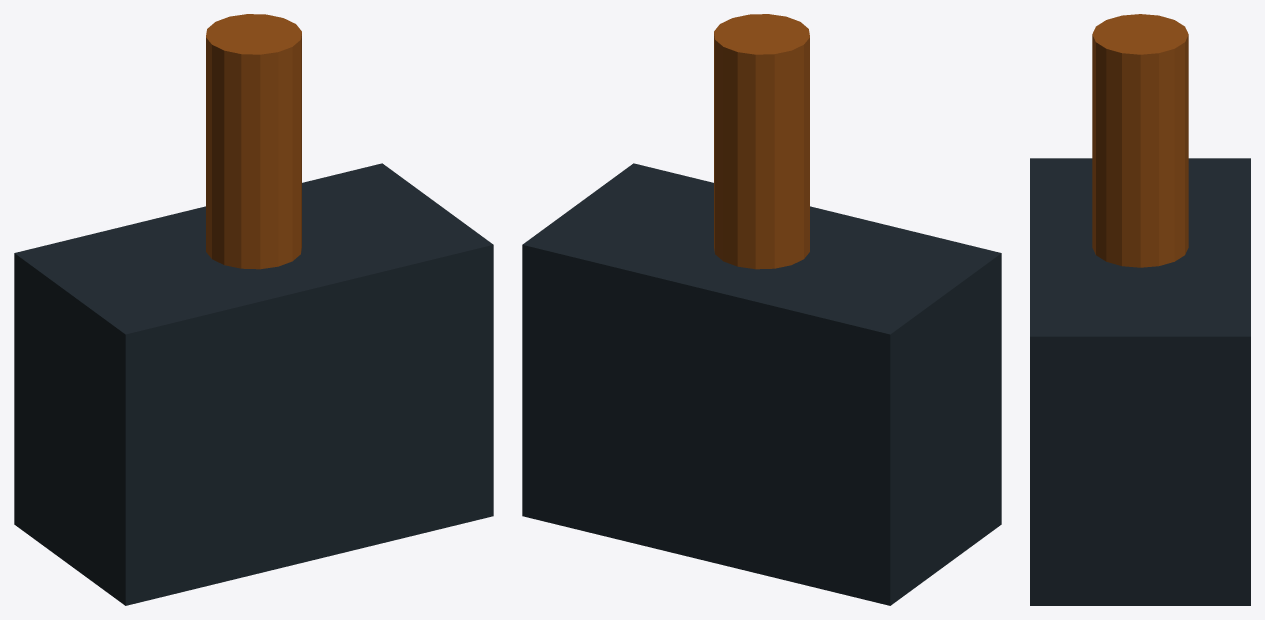
The model's file is floor_lamp.obj.
3 renders of one model, left to right at view 1: azimuth 30°, elevation 25°; view 2: azimuth 150°, elevation 25°; view 3: azimuth 270°, elevation 25°, orthographic.
Visible parts, largest first — view 1: painted_metal, brass; view 2: painted_metal, brass; view 3: painted_metal, brass.
Part boxes in pixels (x1,y1,x2,y2): painted_metal: [14, 163, 493, 605]; brass: [206, 14, 301, 269]; painted_metal: [522, 163, 1001, 605]; brass: [714, 14, 809, 269]; painted_metal: [1030, 158, 1250, 605]; brass: [1092, 14, 1188, 267].
Bounding box in the file's own units: 1.05 × 1.33 × 0.55.
